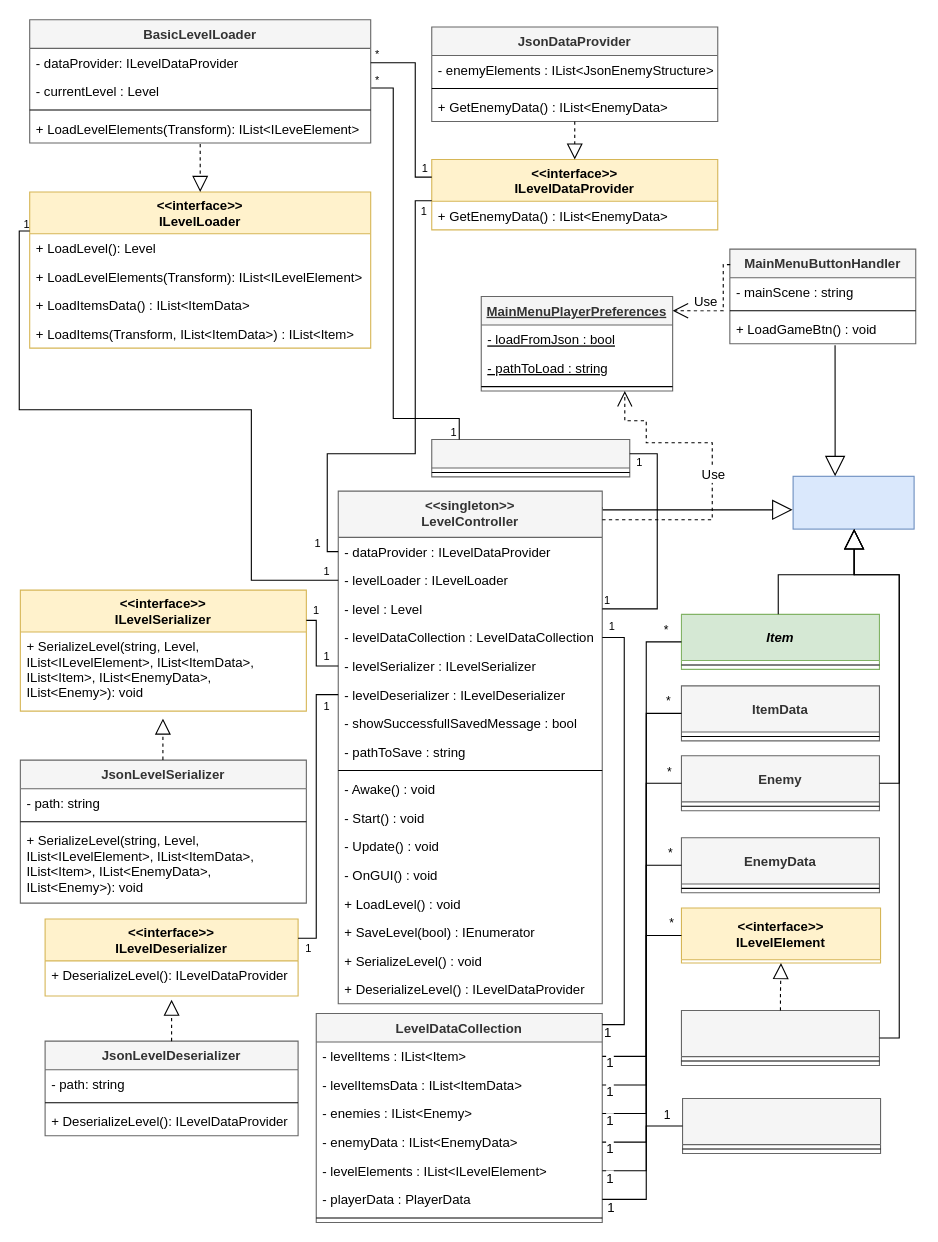
Image size: 938x1242. Some labels were removed from this diagram. Each missing label, with the centre of its shape:
Level: [530,457]
LevelElement: [779,1037]
MonoBehaviour: [853,502]
PlayerData: [781,1125]
